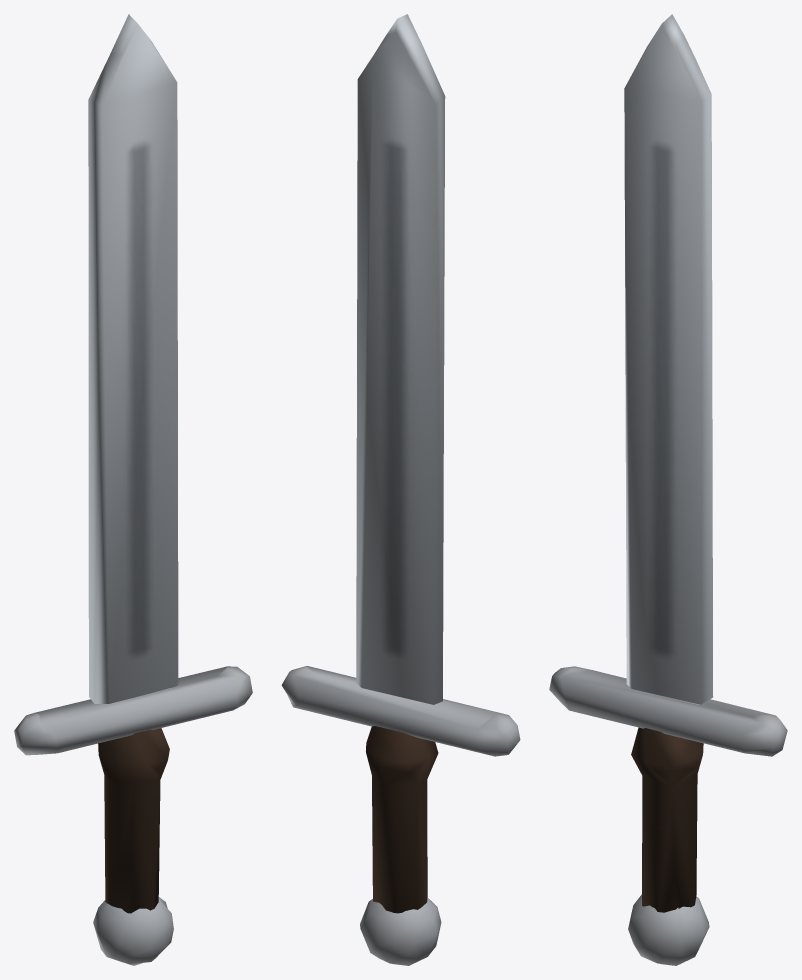
The model's file is captain-sword.glb.
The picture shows the model from 3 angles, left to right: view 1: azimuth 30°, elevation 25°; view 2: azimuth 150°, elevation 25°; view 3: azimuth 330°, elevation 25°; orthographic projection.
Visible parts, largest first — view 1: sword-blade; view 2: sword-blade; view 3: sword-blade.
Part boxes in pixels (left/top/right/bottom): sword-blade: left=14, top=14, right=252, bottom=965; sword-blade: left=281, top=14, right=520, bottom=965; sword-blade: left=549, top=14, right=787, bottom=965.
Size of the model in its own units: 0.1413 by 0.5563 by 0.0431.
1 material, 1 textured.
